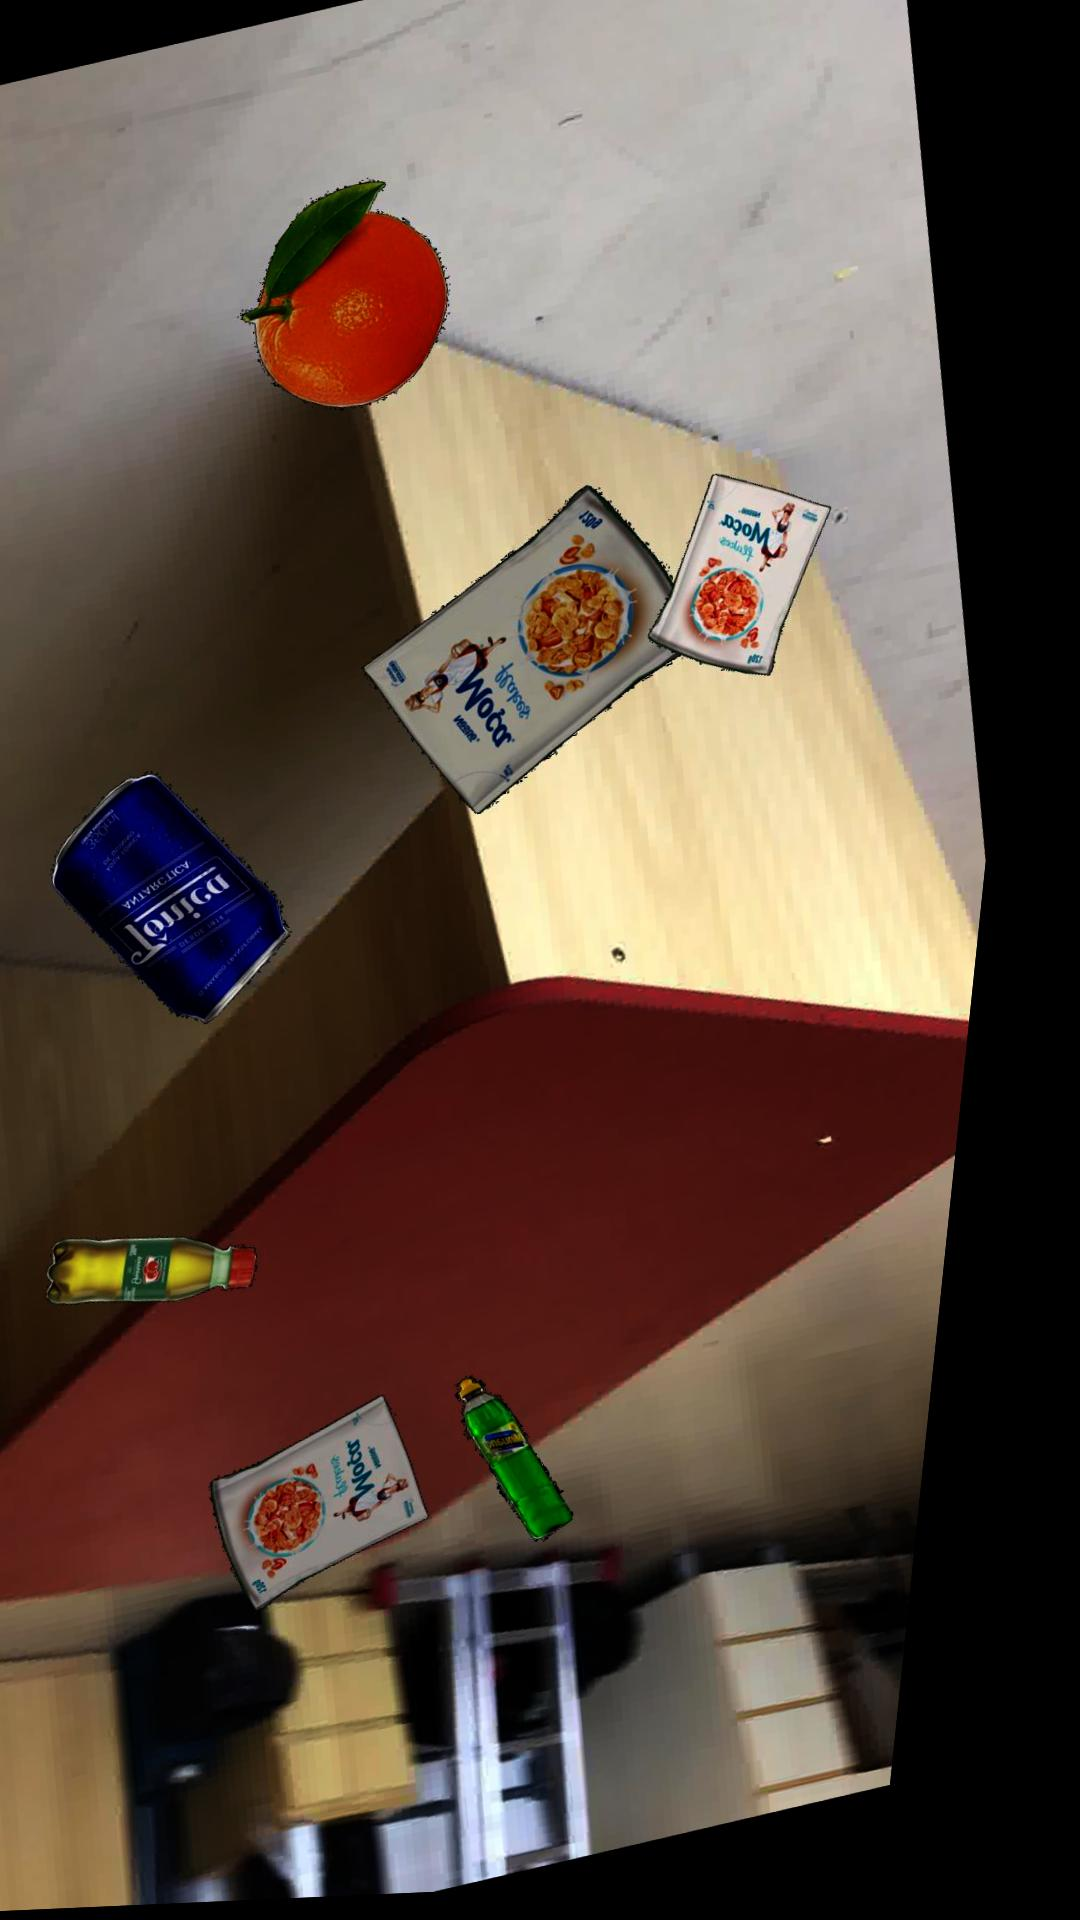cleaner: (488, 1383, 609, 1549)
corn flakes: (378, 493, 699, 820), (245, 1400, 464, 1617), (665, 483, 844, 684)
guarana: (75, 1240, 287, 1308)
orange: (249, 185, 458, 415)
tonic: (73, 777, 311, 1029)
